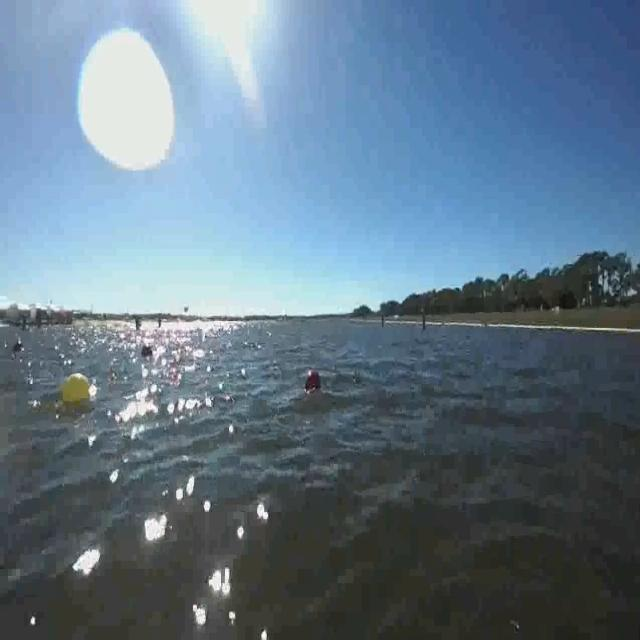red-buoy: (306, 368, 323, 388)
yellow-buoy: (57, 370, 91, 404)
